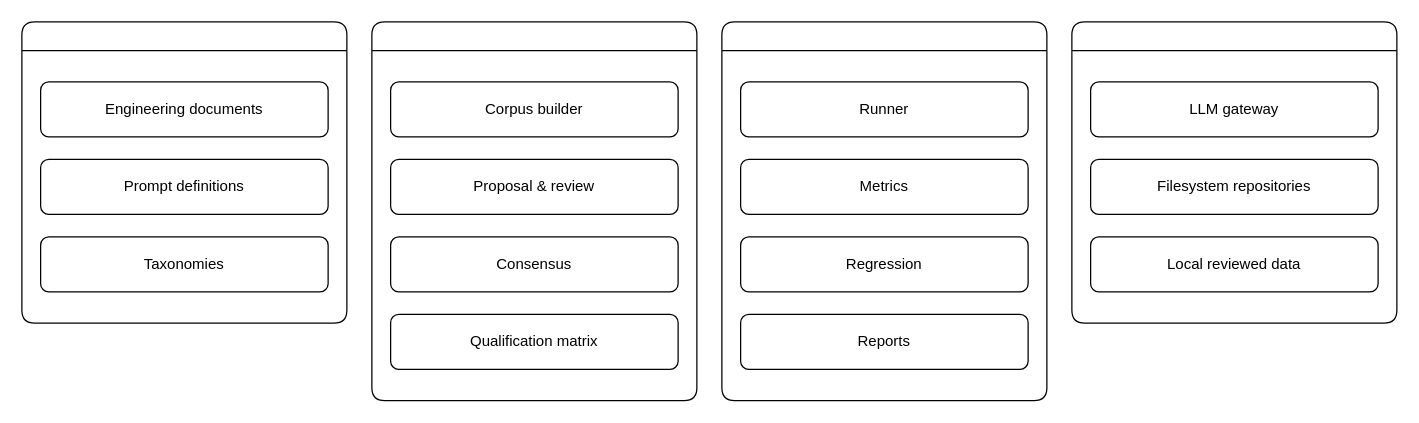
This 1419x423 diagram has some shape labels left out. The shapes that lost their labels are listed below. From the top down, each one's box as (x1, y1, x2, y2) in pixels, then its label:
(21, 21, 347, 323): Inputs
(1071, 21, 1397, 323): Providers & stores
(371, 21, 697, 401): Semantic qualification
(721, 21, 1047, 401): Generic evaluation
